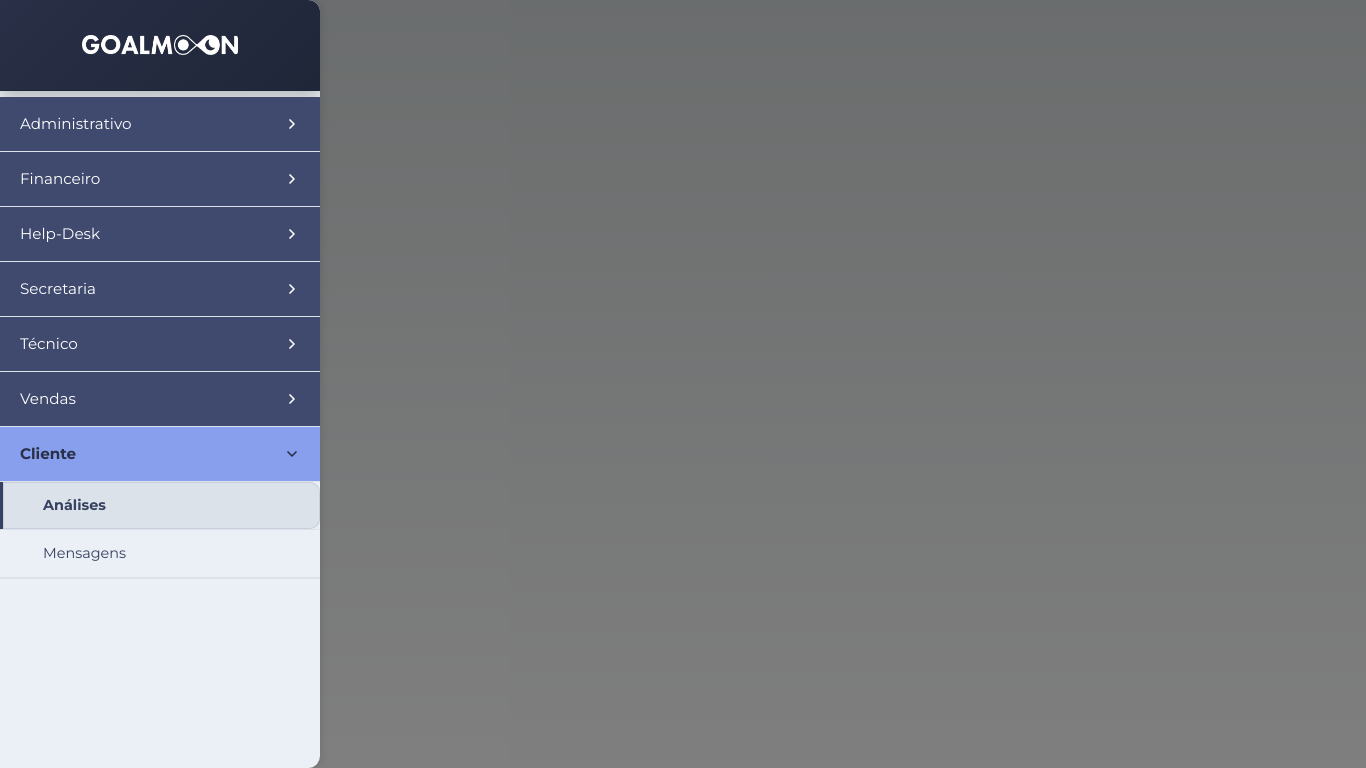
Test: SicoopMenu › deve permitir abrir outro menu principal mesmo com subitem ativo
expect the link "Análises" is shown: met, box 0,482 -> 320,529
Click the text "Administrativo" at (160, 124), box 0,97 -> 320,151
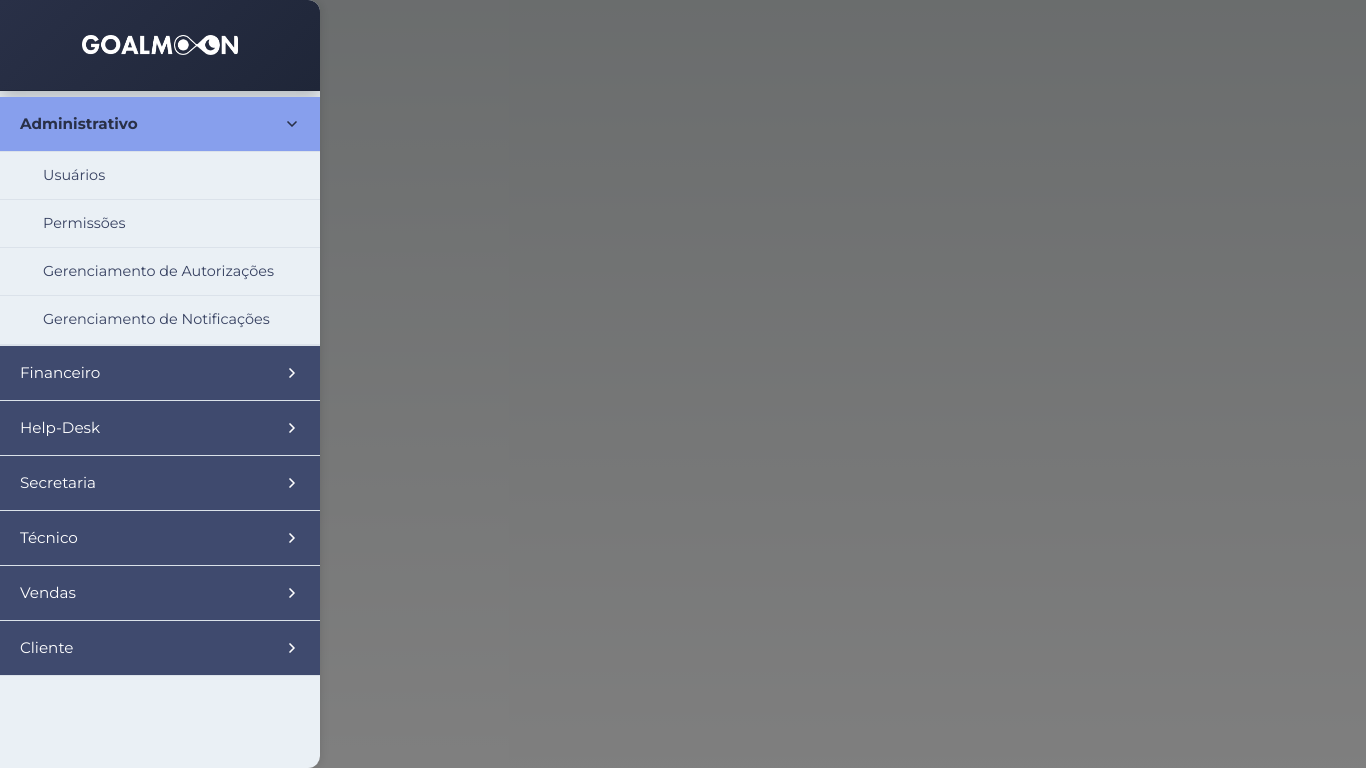
expect the link "Usuários" is shown: met, box 43,166 -> 105,184
expect the link "Análises" is gone: met
